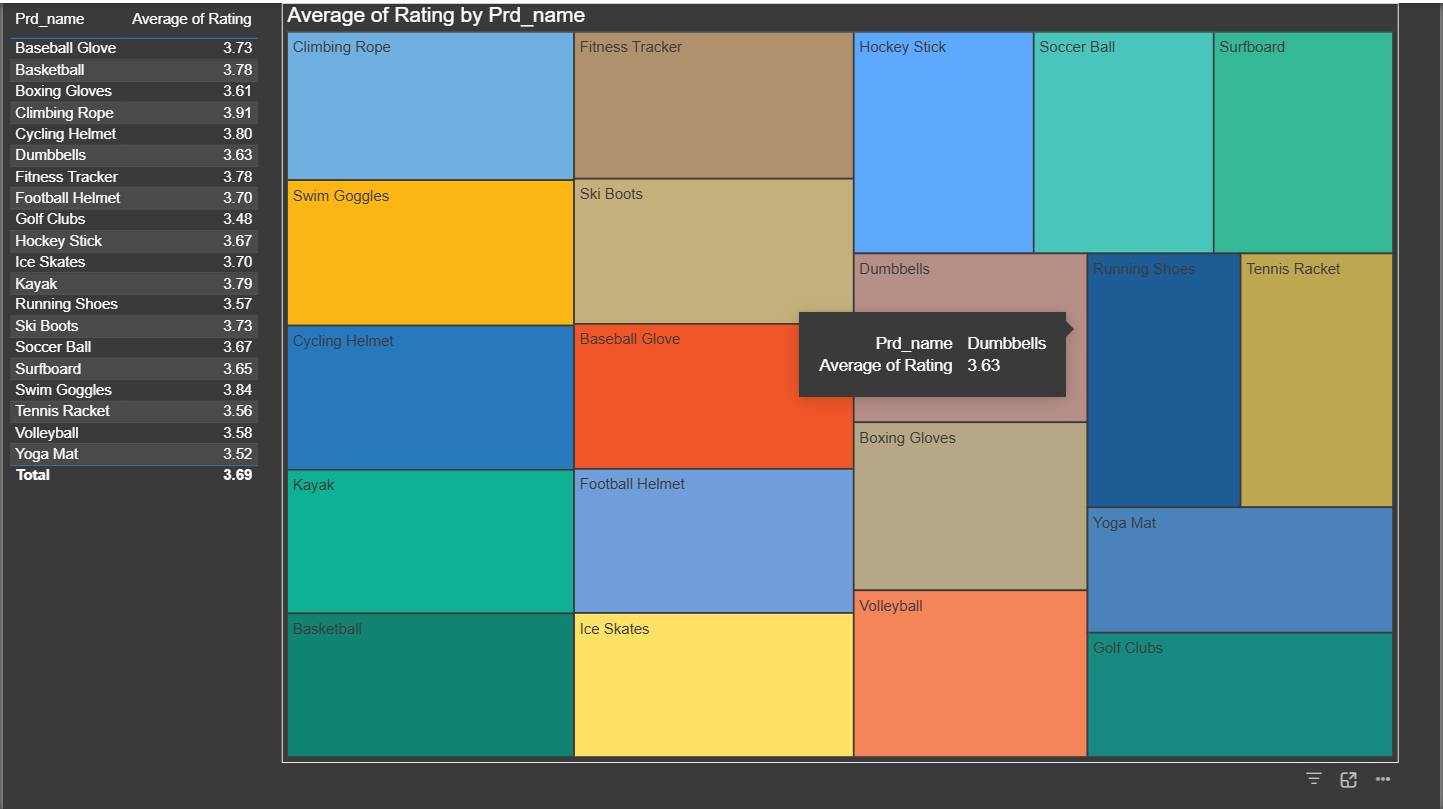

This screenshot's page, from the dashboard's own definition file:
{"tool":"powerbi","page":{"name":"Page 3","canvas":[1280,720],"ordinal":2},"visuals":[{"type":"tableEx","fields":{"Values":["Products.Prd_name","Avg(Cust_review.Rating)"]},"box":[0,0,248.4,511.8],"z":0},{"type":"treemap","fields":{"Group":["Products.Prd_name"],"Values":["Avg(Cust_review.Rating)"]},"box":[248.4,0,994.9,676.5],"z":1000}]}

Visuals, with their boxes in screenshot pixels (x1, y1, x2, y2), scaled from the page's 1280x720 canvas onto the 1443x809 screenshot:
tableEx - Products.Prd_name x Avg(Cust_review.Rating): Rect(0, 0, 280, 575)
treemap - Products.Prd_name x Avg(Cust_review.Rating): Rect(280, 0, 1402, 760)
